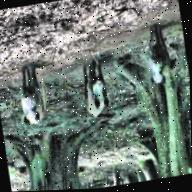boar: (70, 43, 128, 124), (8, 52, 58, 135), (136, 12, 188, 90)
